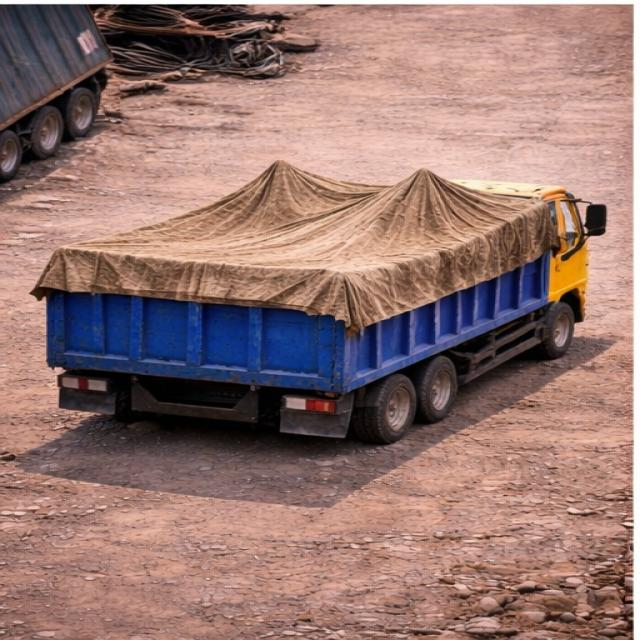trailer: (55, 162, 551, 276)
truck: (30, 152, 614, 435)
